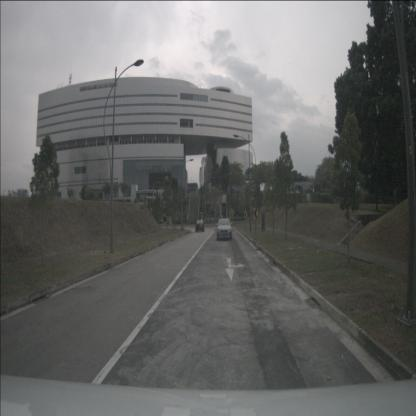vehicle-car: (217, 218, 232, 240), (196, 220, 204, 232)
